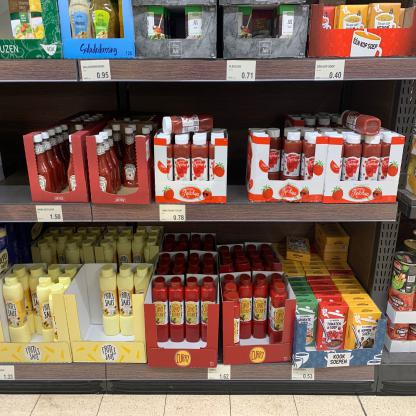prtg: (81, 61, 112, 83), (227, 61, 257, 82), (316, 61, 346, 81), (37, 206, 65, 223), (160, 205, 187, 222), (293, 367, 316, 382), (209, 366, 232, 381), (1, 367, 16, 381)
